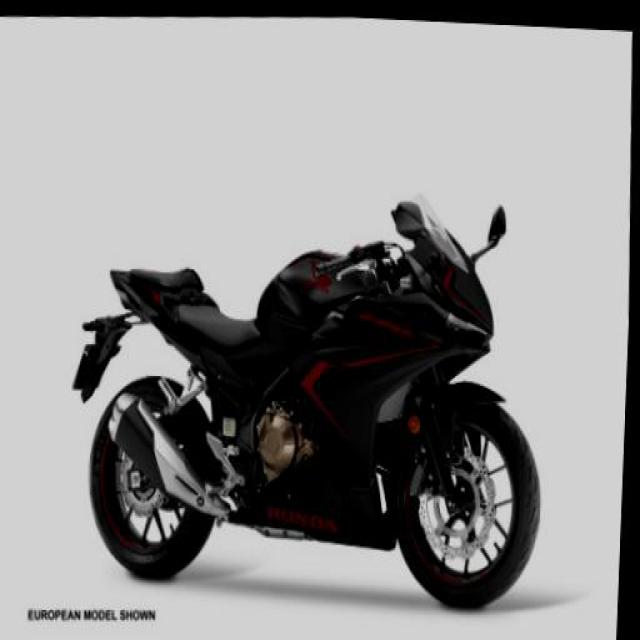CBR500R: (80, 167, 560, 625)
